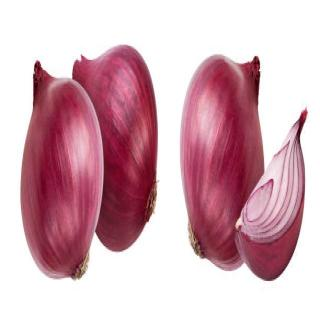Bawang Merah: (19, 57, 109, 287), (177, 51, 267, 275)
